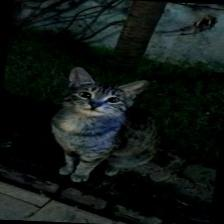kedo: (50, 67, 154, 183)
